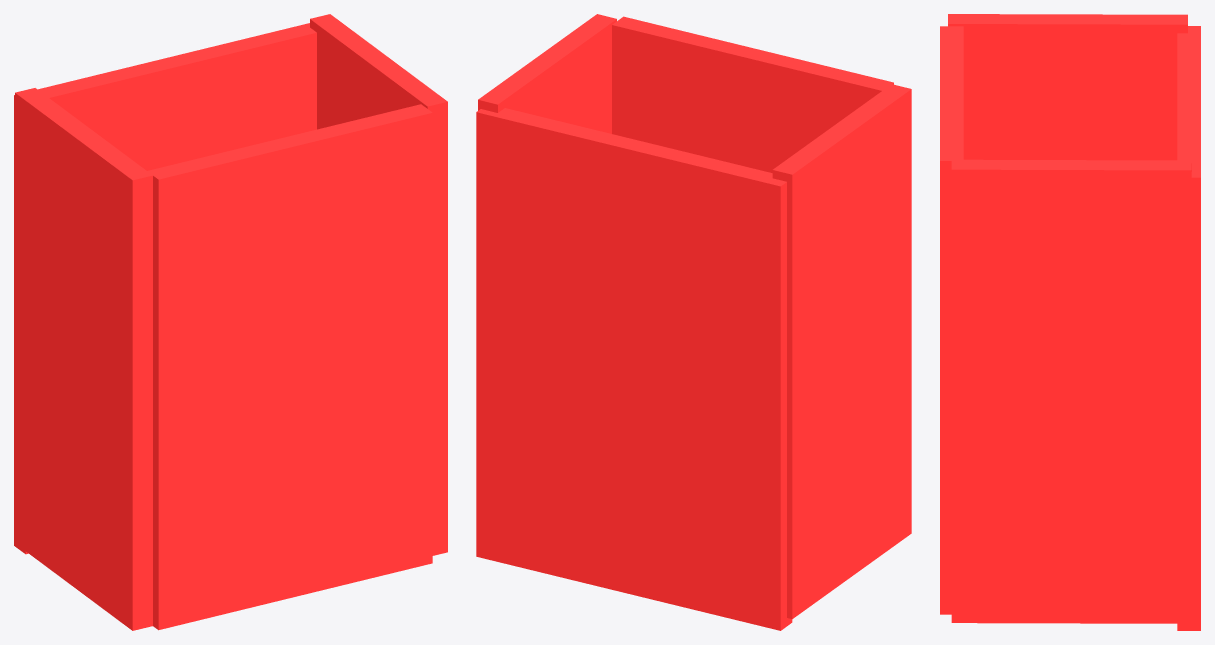
File: snowFortCollider.glb
3 views of the same model, side by side, from view 1: azimuth 30°, elevation 25°; view 2: azimuth 150°, elevation 25°; view 3: azimuth 270°, elevation 25° (orthographic). The views are drawn at different scales.
Parts seen in each view (by area): view 1: Box_collider_1, Box_collider_2, Box_collider, Box_collider_3; view 2: Box_collider, Box_collider_2, Box_collider_1, Box_collider_3; view 3: Box_collider_3, Box_collider_2, Box_collider_1, Box_collider.
Part boxes in pixels (x1,y1,x2,y2): Box_collider_1: (147,104,432,630); Box_collider_2: (15,88,152,630); Box_collider: (14,23,316,554); Box_collider_3: (310,14,447,555); Box_collider: (476,108,792,630); Box_collider_2: (772,84,911,619); Box_collider_1: (612,16,893,172); Box_collider_3: (478,14,616,133); Box_collider_3: (951,159,1191,623); Box_collider_2: (948,14,1187,160); Box_collider_1: (940,26,963,614); Box_collider: (1177,26,1200,630).
Bounding box in the file's own units: 0.74 × 1.02 × 0.5216.
